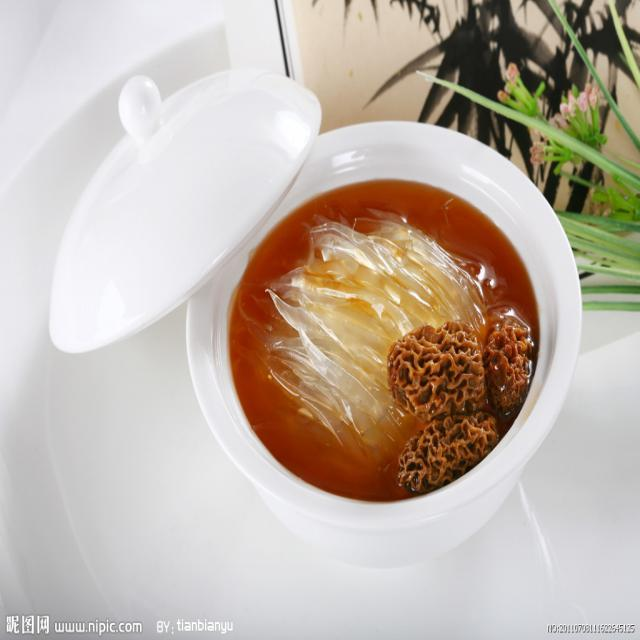Morchella esculenta: (392, 323, 485, 412), (400, 422, 498, 491), (491, 315, 536, 411)
